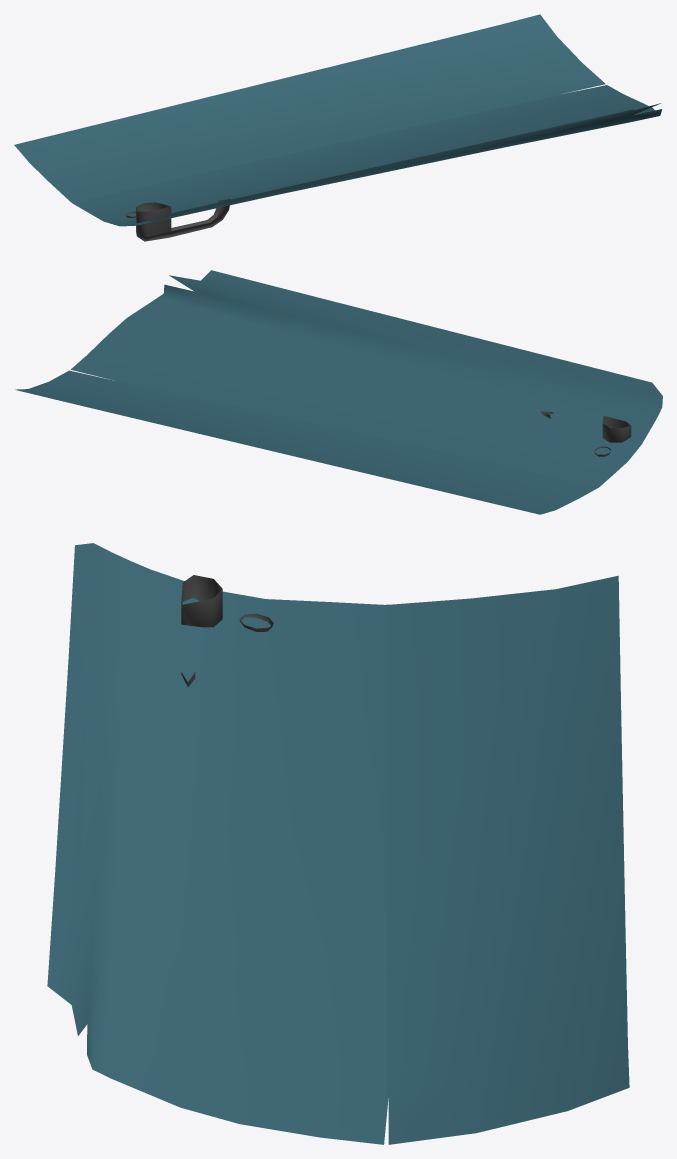
File: CamaroDoorRight.obj
3 renders of one model, top to bottom at view 1: azimuth 30°, elevation 25°; view 2: azimuth 150°, elevation 25°; view 3: azimuth 270°, elevation 25°, orthographic. The views are drawn at different scales.
Size of the model in its own units: 5.32 by 0.5151 by 2.53.
